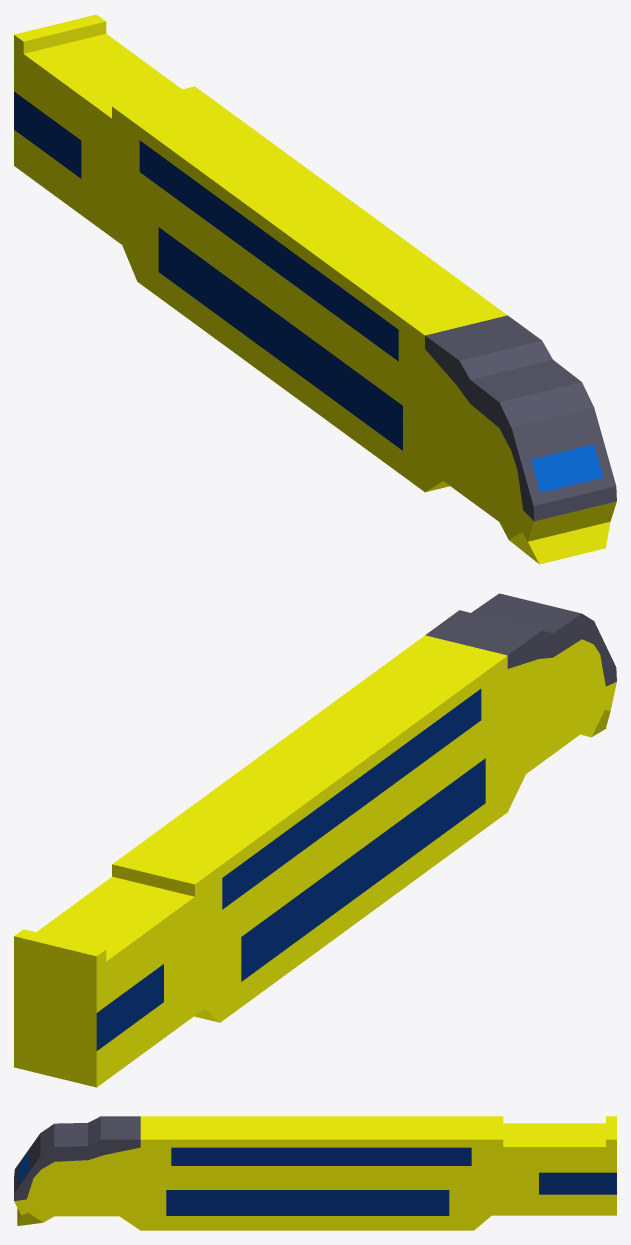
Rendered from lowpolytrain.glb.
3 views of the same model, one above another, from view 1: azimuth 30°, elevation 25°; view 2: azimuth 150°, elevation 25°; view 3: azimuth 270°, elevation 25° (orthographic). The views are drawn at different scales.
Visible parts, largest first — view 1: Train; view 2: Train; view 3: Train.
Part boxes in pixels (left/top/right/bottom): Train: left=14, top=14, right=616, bottom=564; Train: left=14, top=593, right=616, bottom=1087; Train: left=14, top=1116, right=616, bottom=1230.
Bounding box in the file's own units: 2.47 × 4.47 × 26.86.
Materials: 1 (1 with a texture image).
